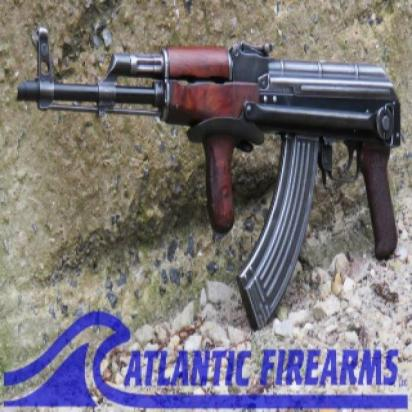Gun: (18, 17, 404, 328)
